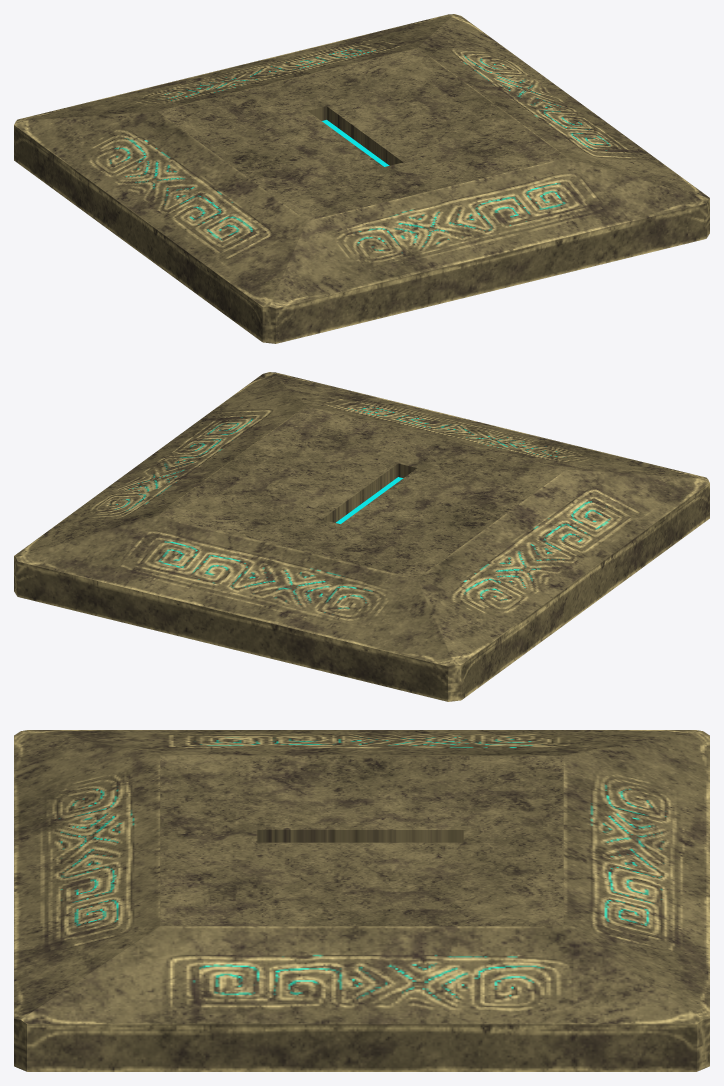
Rendered from Plate (1).fbx.
3 views of the same model, one above another, from view 1: azimuth 30°, elevation 25°; view 2: azimuth 150°, elevation 25°; view 3: azimuth 270°, elevation 25° (orthographic). The views are drawn at different scales.
Visible parts, largest first — view 1: Plate.003; view 2: Plate.003; view 3: Plate.003.
Part boxes in pixels (x1,y1,x2,y2): Plate.003: (14, 14, 709, 343); Plate.003: (14, 372, 709, 701); Plate.003: (14, 730, 709, 1071).
Size of the model in its own units: 230 by 30.58 by 230.
